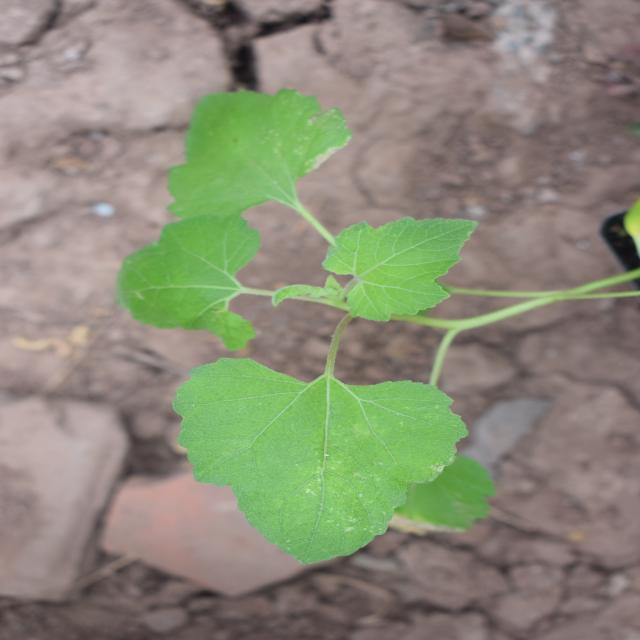cocklebur: (61, 98, 532, 477)
